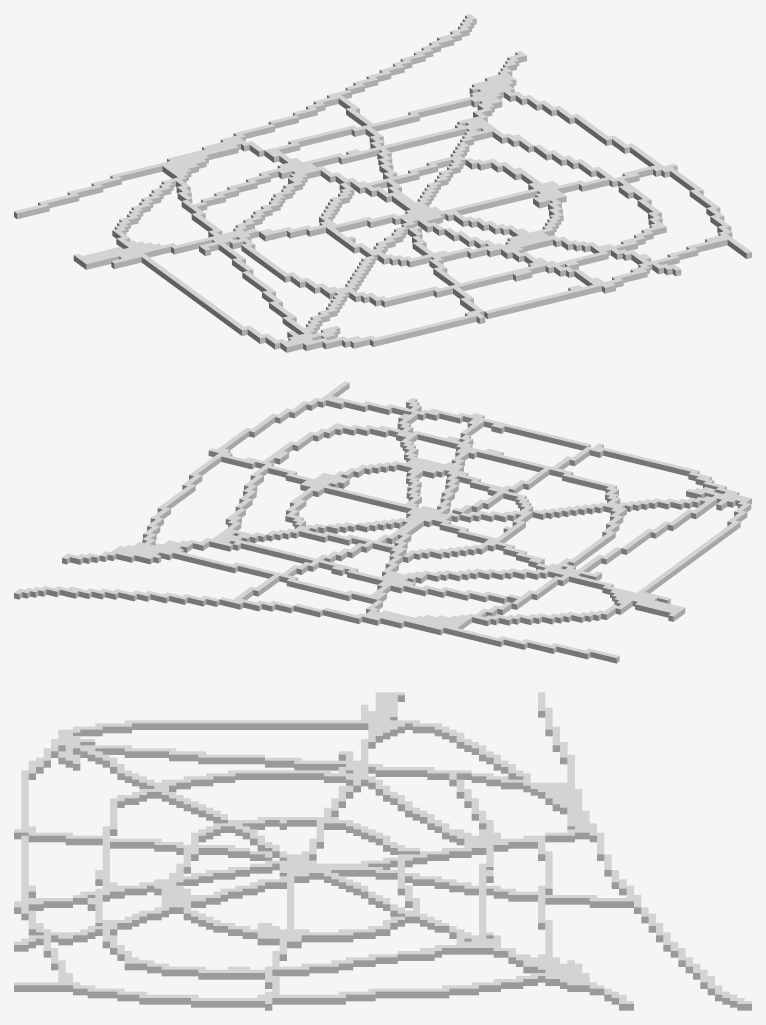
The model's file is spider web.obj.
3 renders of one model, top to bottom at view 1: azimuth 30°, elevation 25°; view 2: azimuth 150°, elevation 25°; view 3: azimuth 270°, elevation 25°, orthographic. The views are drawn at different scales.
Bounding box in the file's own units: 100 × 1 × 100.
Materials: 1 (1 with a texture image).
